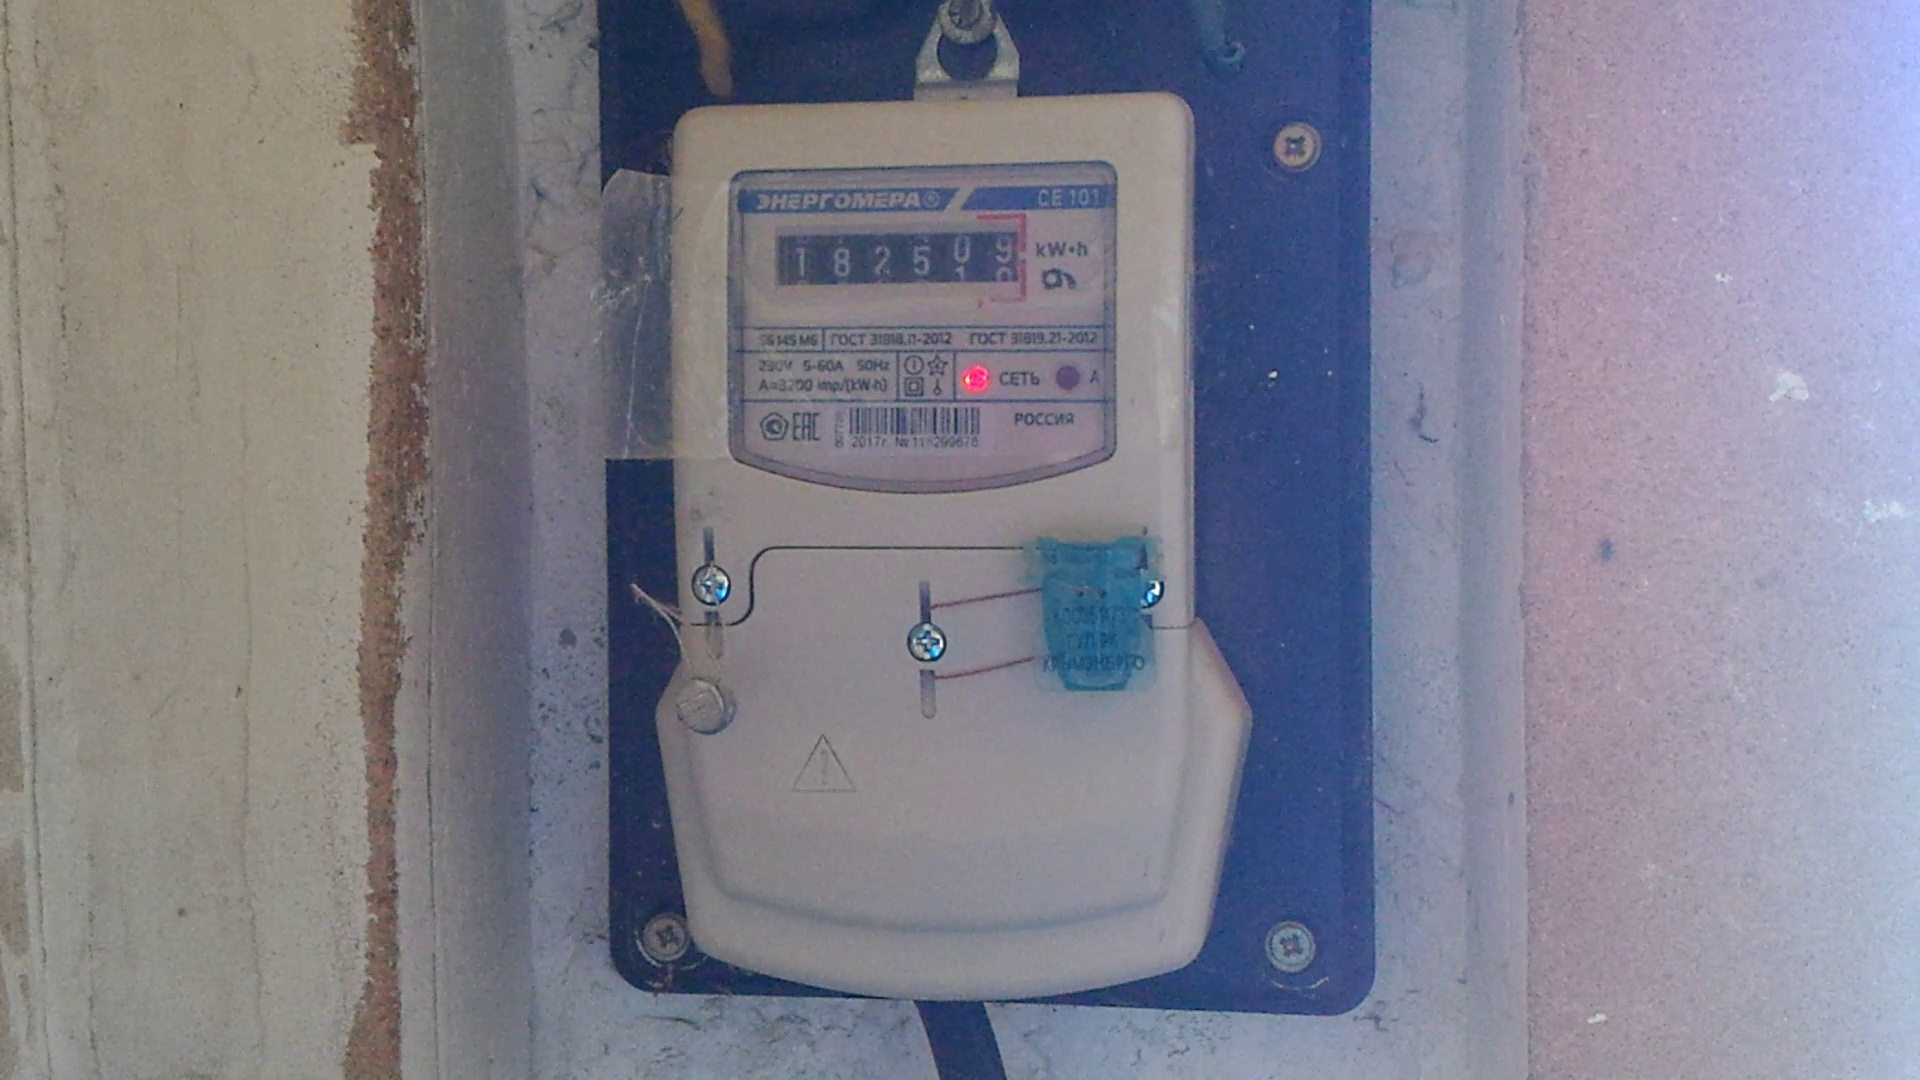counter: (670, 102, 1199, 978)
counter_screen: (775, 229, 1021, 286)
